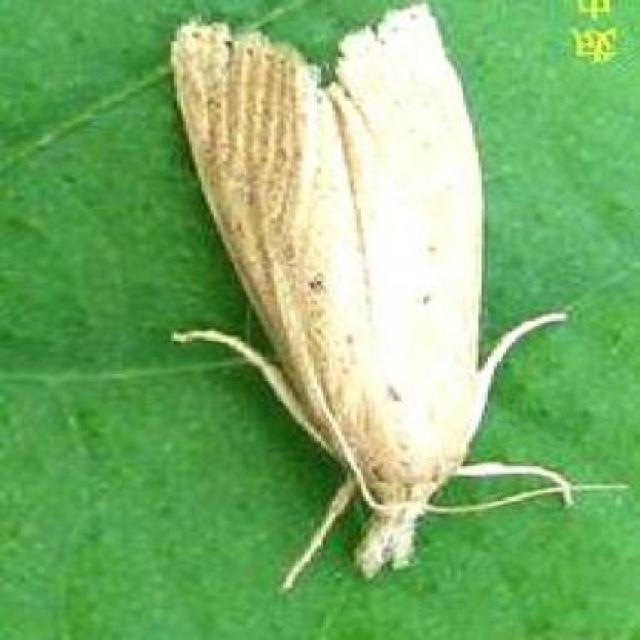stem-borer: (133, 3, 632, 609)
